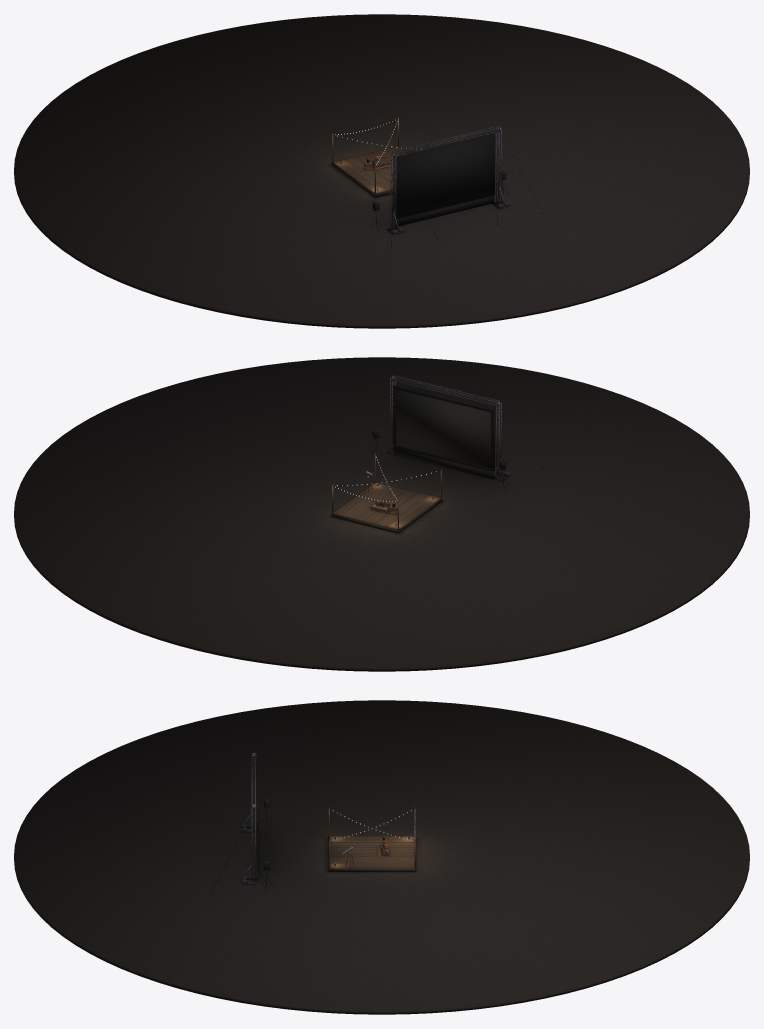
Rendered from stargaze.glb.
The picture shows the model from 3 angles, top to bottom: view 1: azimuth 30°, elevation 25°; view 2: azimuth 150°, elevation 25°; view 3: azimuth 270°, elevation 25°; orthographic projection.
Visible parts, largest first — view 1: stargaze; view 2: stargaze; view 3: stargaze.
Boxes of the visible parts, x1,y1,x2,y2 form: stargaze: (14,14,749,328); stargaze: (14,357,749,671); stargaze: (14,700,749,1014).
Bounding box in the file's own units: 60 × 7.24 × 60.
Materials: 2 (2 with a texture image).
